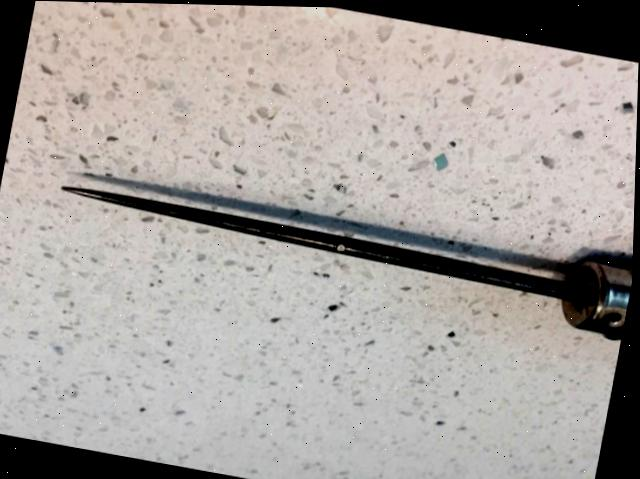ice pick: (49, 158, 636, 341)
